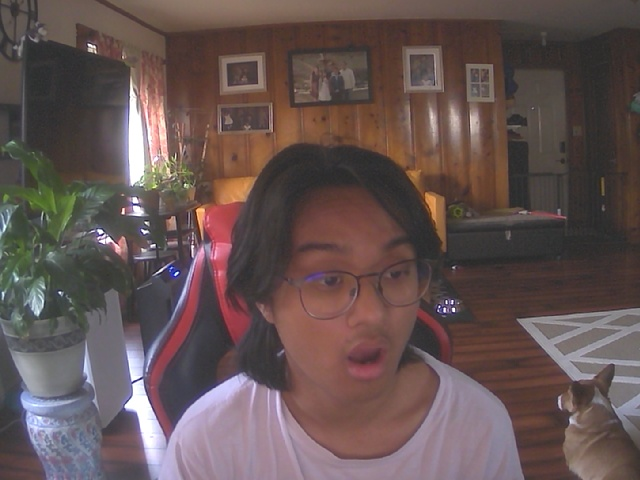fear: (247, 156, 436, 404)
